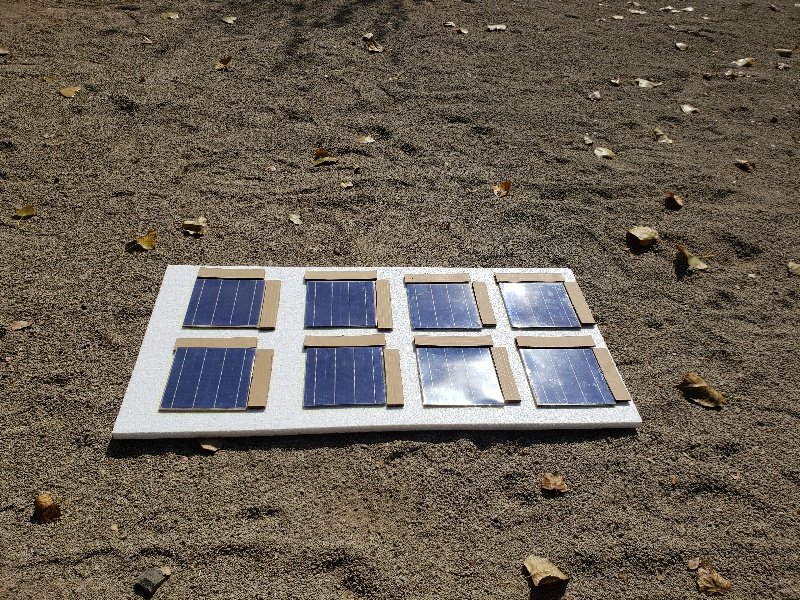clean: (517, 340, 616, 410), (157, 345, 255, 409), (304, 343, 388, 407), (183, 275, 267, 328), (404, 280, 484, 332), (498, 282, 581, 332), (306, 280, 378, 330)
